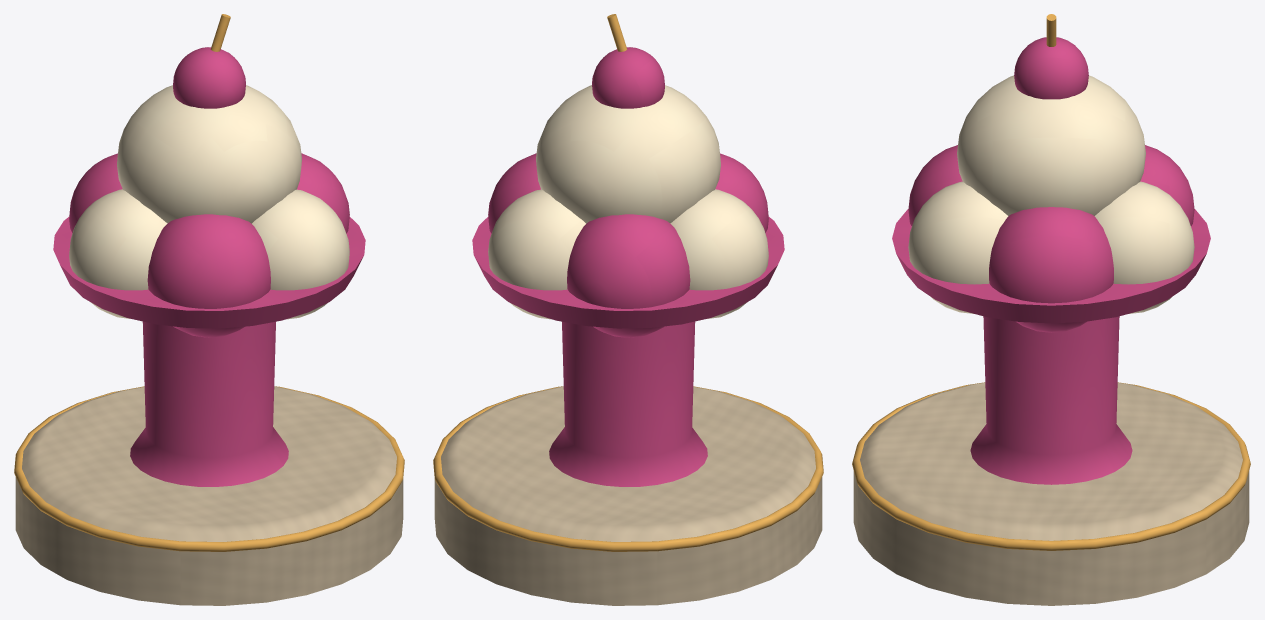
The model's file is candy_cloud.glb.
The picture shows the model from 3 angles, left to right: view 1: azimuth 30°, elevation 25°; view 2: azimuth 150°, elevation 25°; view 3: azimuth 270°, elevation 25°; orthographic projection.
Visible parts, largest first — view 1: candy_cloud_lod0; view 2: candy_cloud_lod0; view 3: candy_cloud_lod0.
Part boxes in pixels (x1,y1,x2,y2): candy_cloud_lod0: [14, 14, 404, 605]; candy_cloud_lod0: [433, 14, 823, 605]; candy_cloud_lod0: [852, 14, 1250, 605].
Size of what is drawn, in the model's own units: 7.26 by 10.33 by 7.26.
4 materials, 4 textured.
